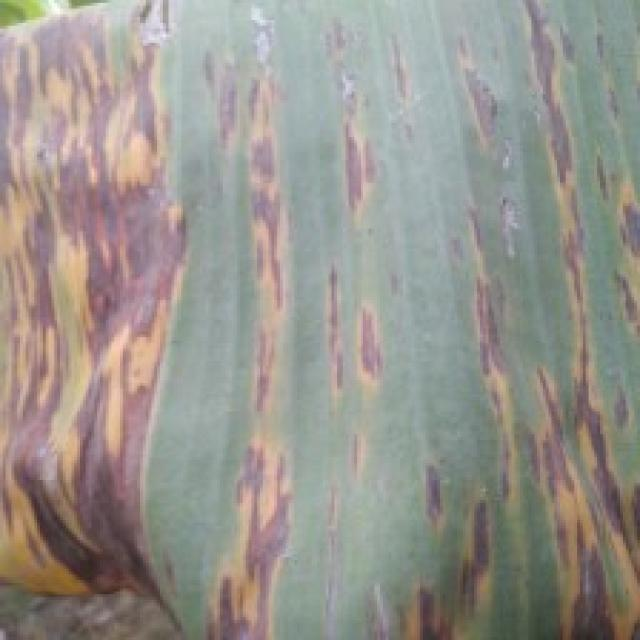Early_leaf_spot: (0, 0, 180, 592), (493, 0, 640, 620), (194, 42, 296, 640), (426, 197, 528, 523), (307, 95, 398, 458), (393, 426, 509, 627), (428, 0, 512, 207), (305, 0, 411, 114)
